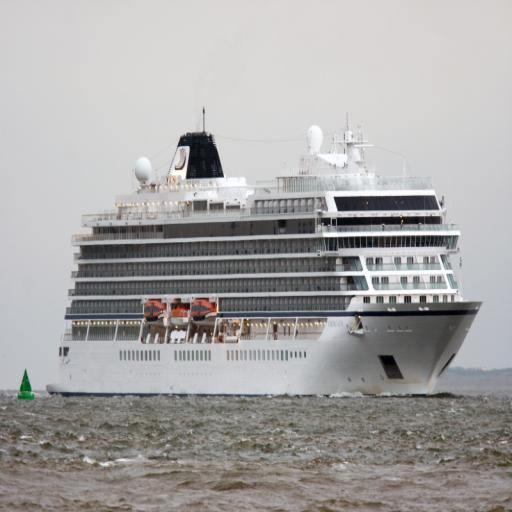cruises: (45, 103, 486, 407)
